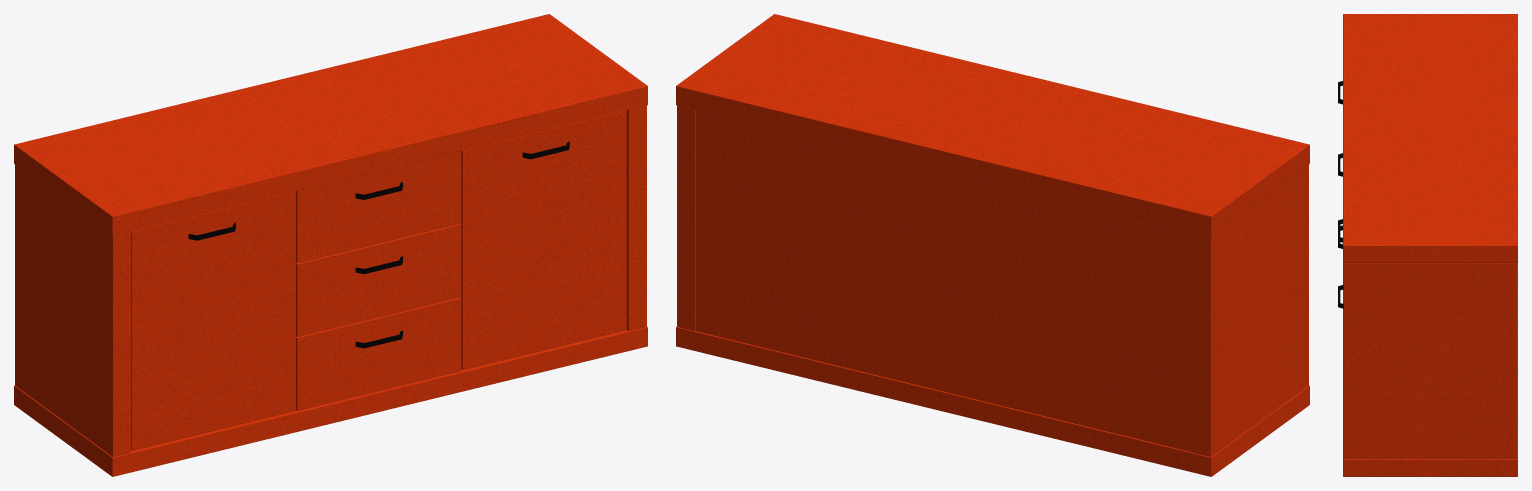
Rendered from Table with texture.glb.
3 renders of one model, left to right at view 1: azimuth 30°, elevation 25°; view 2: azimuth 150°, elevation 25°; view 3: azimuth 270°, elevation 25°, orthographic. The views are drawn at different scales.
Parts seen in each view (by area): view 1: polySurface85, polySurface127, polySurface115, polySurface103, polySurface131, polySurface137, polySurface121, polySurface87, polySurface81, polySurface99, polySurface93, polySurface86 (+3 smaller); view 2: polySurface106, polySurface85, polySurface103, polySurface90, polySurface84, polySurface102, polySurface96, polySurface86, polySurface89, polySurface88; view 3: polySurface85, polySurface94, polySurface83, polySurface92, polySurface88, polySurface81.
Part boxes in pixels (x1=…): polySurface85: x1=14, y1=14, x2=647, y2=216; polySurface127: x1=460, y1=110, x2=626, y2=369; polySurface115: x1=131, y1=191, x2=295, y2=450; polySurface103: x1=15, y1=165, x2=112, y2=456; polySurface131: x1=296, y1=297, x2=461, y2=410; polySurface137: x1=296, y1=223, x2=461, y2=336; polySurface121: x1=296, y1=151, x2=461, y2=263; polySurface87: x1=112, y1=327, x2=647, y2=476; polySurface81: x1=112, y1=86, x2=647, y2=235; polySurface99: x1=113, y1=231, x2=131, y2=456; polySurface93: x1=628, y1=105, x2=646, y2=330; polySurface86: x1=14, y1=145, x2=112, y2=235; polySurface106: x1=696, y1=110, x2=1192, y2=452; polySurface85: x1=676, y1=14, x2=1309, y2=216; polySurface103: x1=1211, y1=165, x2=1308, y2=456; polySurface90: x1=676, y1=327, x2=1211, y2=476; polySurface84: x1=676, y1=86, x2=1211, y2=235; polySurface102: x1=1192, y1=231, x2=1210, y2=456; polySurface96: x1=677, y1=105, x2=695, y2=330; polySurface86: x1=1211, y1=145, x2=1309, y2=235; polySurface89: x1=1211, y1=386, x2=1309, y2=476; polySurface88: x1=676, y1=326, x2=1309, y2=457; polySurface85: x1=1343, y1=14, x2=1517, y2=245; polySurface94: x1=1343, y1=263, x2=1517, y2=459; polySurface83: x1=1343, y1=246, x2=1517, y2=262; polySurface92: x1=1343, y1=460, x2=1517, y2=476; polySurface88: x1=1343, y1=263, x2=1517, y2=459; polySurface81: x1=1343, y1=14, x2=1343, y2=262.
Bounding box in the file's own units: 2.08 × 0.9889 × 0.6835.
4 materials, 2 textured.
